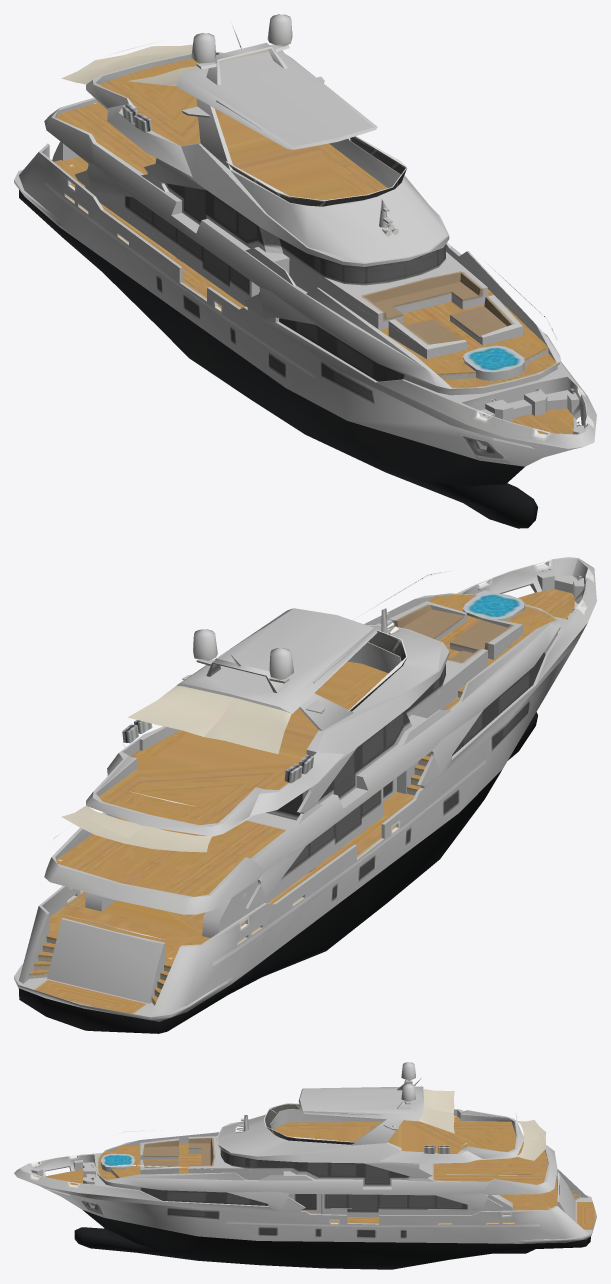
Rendered from cove-yacht.lod1.glb.
3 renders of one model, top to bottom at view 1: azimuth 30°, elevation 25°; view 2: azimuth 150°, elevation 25°; view 3: azimuth 270°, elevation 25°, orthographic. The views are drawn at different scales.
Visible parts, largest first — view 1: korpus1_01 - Default_0; view 2: korpus1_01 - Default_0; view 3: korpus1_01 - Default_0.
Part boxes in pixels (<box>): korpus1_01 - Default_0: <box>14,14,596,528</box>; korpus1_01 - Default_0: <box>14,557,596,1033</box>; korpus1_01 - Default_0: <box>14,1062,596,1269</box>.
Bounding box in the file's own units: 8.14 × 13.63 × 40.
1 material, 1 textured.
